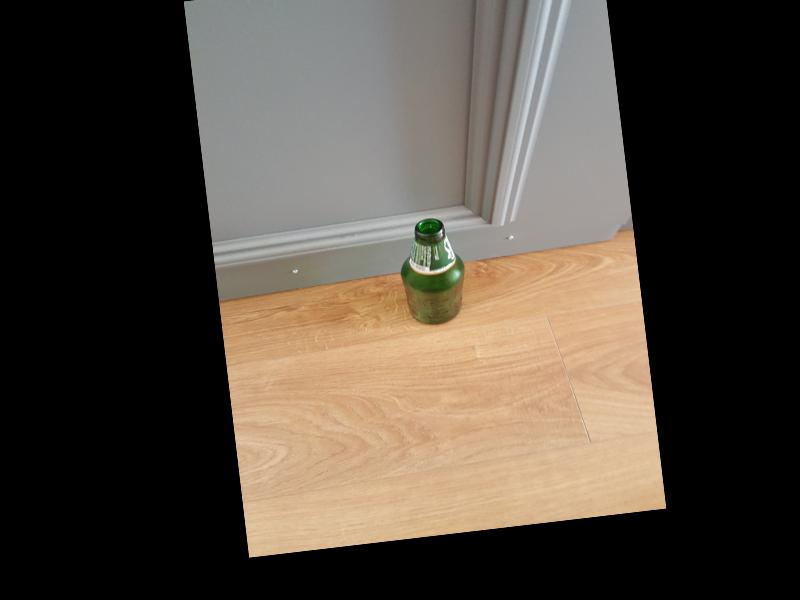Beer: (394, 215, 470, 328)
